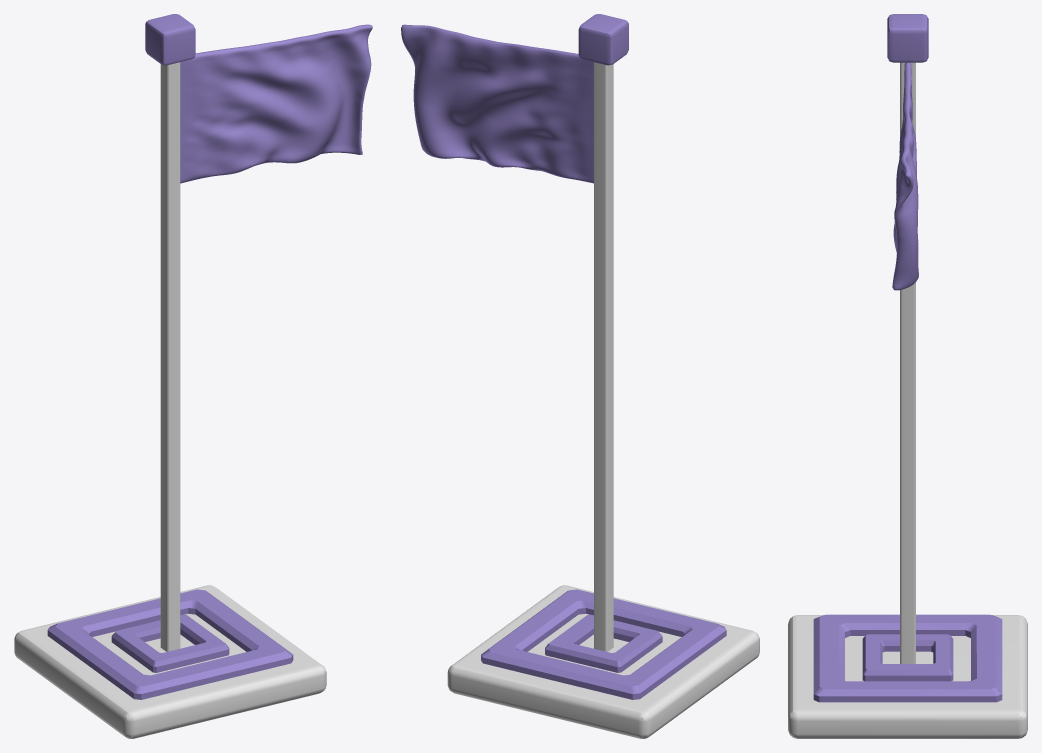
Rendered from flag.fbx.
3 renders of one model, left to right at view 1: azimuth 30°, elevation 25°; view 2: azimuth 150°, elevation 25°; view 3: azimuth 270°, elevation 25°, orthographic. The views are drawn at different scales.
Visible parts, largest first — view 1: pCube8; view 2: pCube8; view 3: pCube8.
Boxes of the visible parts, x1=… form: pCube8: x1=14, y1=14, x2=372, y2=738; pCube8: x1=401, y1=14, x2=759, y2=738; pCube8: x1=788, y1=14, x2=1027, y2=738.
Size of the model in its own units: 6.21 by 12.78 by 4.14.
